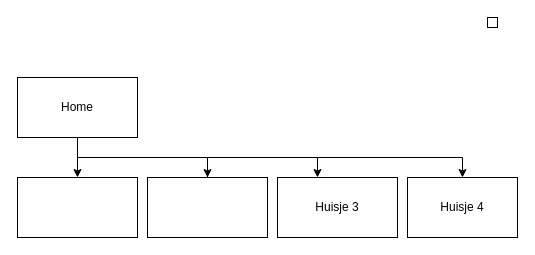
Some shapes in this 535 by 255 pixel diagram are drawn without their labels. The shapes that lost their labels are listed below. From the top down, each one's centre as x and y in pixels, then its label:
the point at 77,207: Huisje 1
the point at 207,207: Huisje 2
